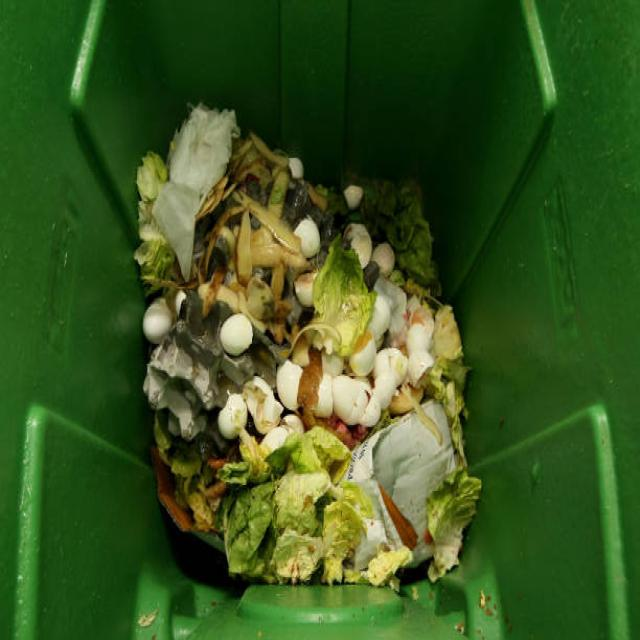trash: (119, 126, 479, 578)
